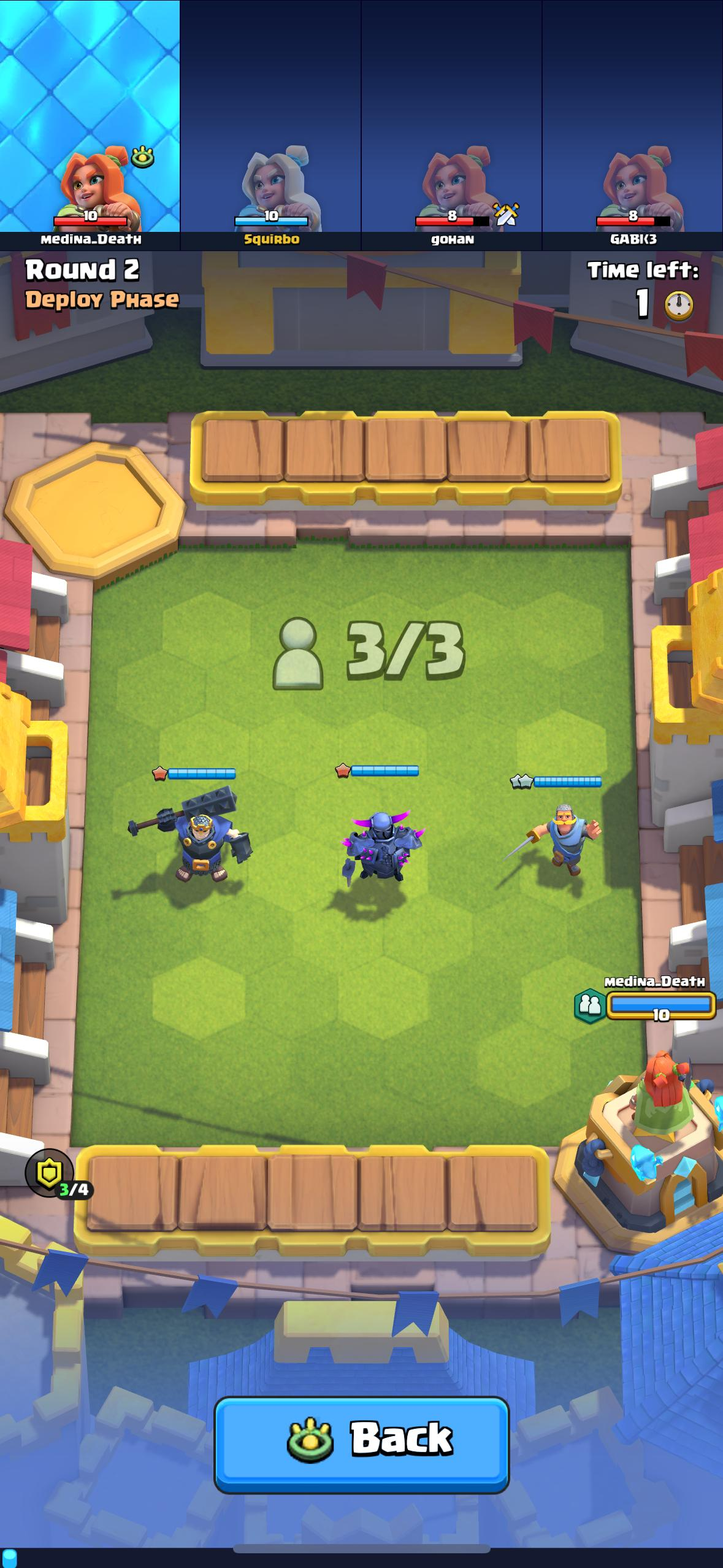king: (156, 780, 252, 890)
knight: (522, 792, 600, 875)
pekka: (336, 799, 427, 885)
